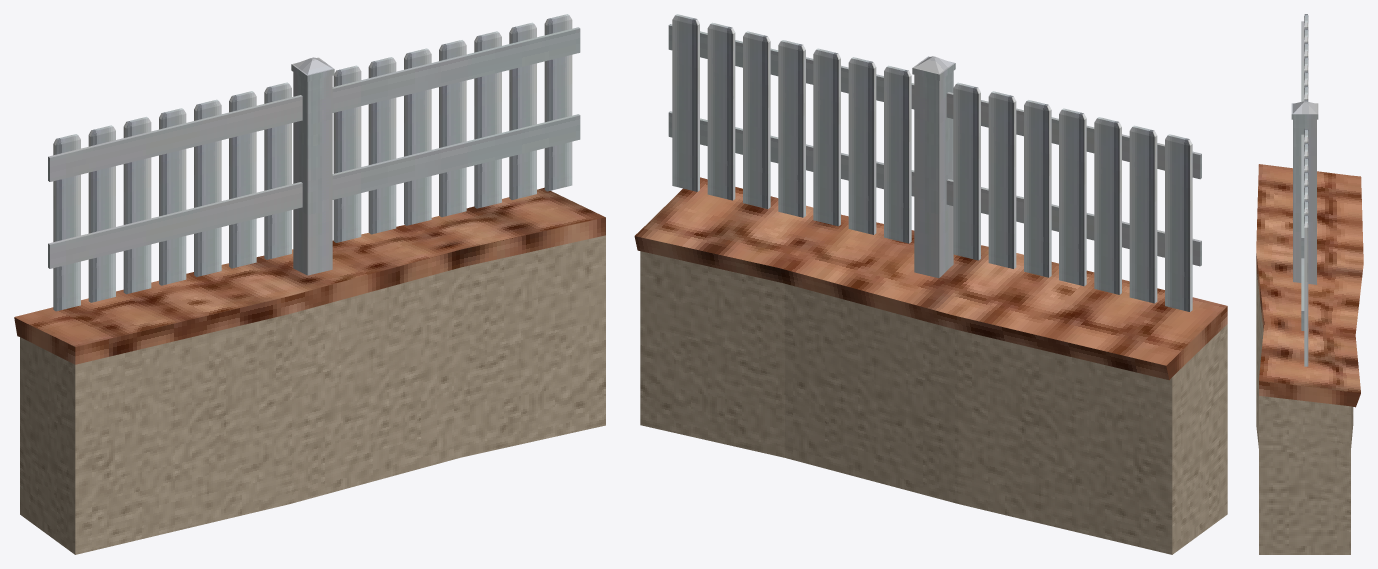
File: lf_plaster_wall_fenced.glb
The picture shows the model from 3 angles, left to right: view 1: azimuth 30°, elevation 25°; view 2: azimuth 150°, elevation 25°; view 3: azimuth 270°, elevation 25°; orthographic projection. The views are drawn at different scales.
Visible parts, largest first — view 1: plaster_wall_fenced; view 2: plaster_wall_fenced; view 3: plaster_wall_fenced.
Boxes of the visible parts, left/top/right/bottom form: plaster_wall_fenced: left=14, top=14, right=605, bottom=554; plaster_wall_fenced: left=634, top=14, right=1227, bottom=554; plaster_wall_fenced: left=1256, top=14, right=1363, bottom=554.
Bounding box in the file's own units: 2 × 1.48 × 0.4194.
Materials: 3 (3 with a texture image).
